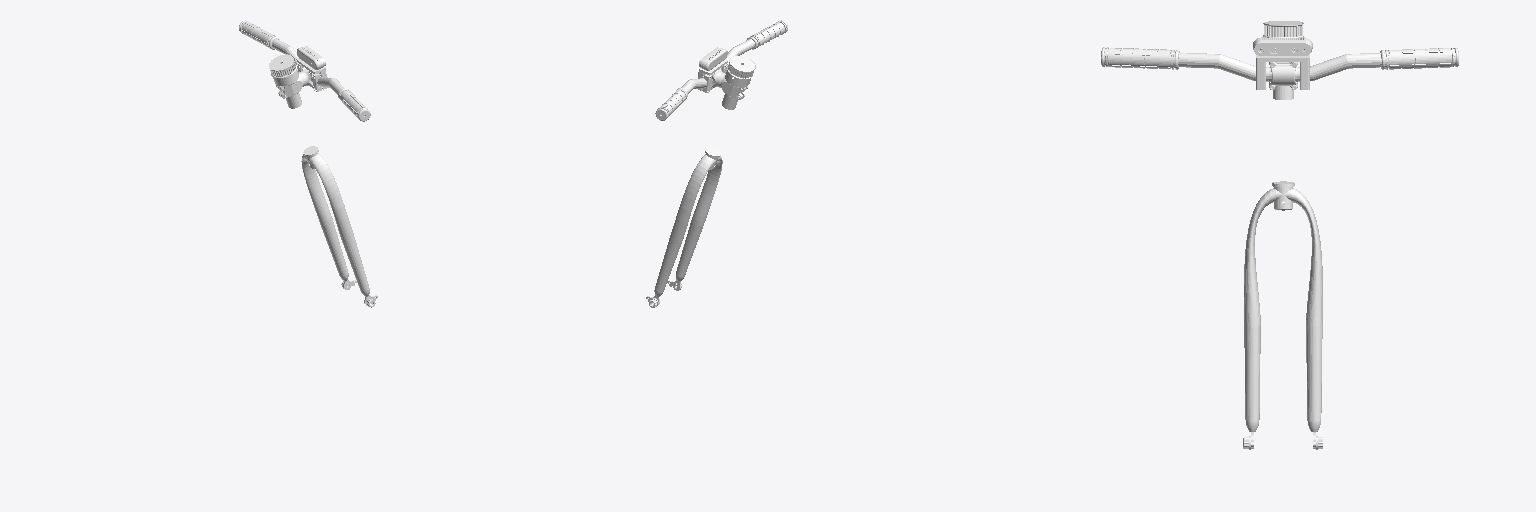
URDF robot description (bicycle_urdf):
<?xml version="1.0" encoding="utf-8"?>
<!-- This URDF was automatically created by SolidWorks to URDF Exporter! Originally created by [author] ([email redacted]) 
     Commit Version: 1.6.0-4-g7f85cfe  Build Version: 1.6.7995.38578
     For more information, please see http://wiki.ros.org/sw_urdf_exporter -->
<robot
  name="bicycle_urdf">
  <link
    name="base_link">
    <visual>
      <origin
        xyz="0 0 0"
        rpy="0 0 0" />
      <geometry>
        <mesh
          filename="package://bicycle_urdf/meshes/base_link.STL" />
      </geometry>
      <material
        name="">
        <color
          rgba="1 1 1 1" />
      </material>
    </visual>
    <collision>
      <origin
        xyz="0 0 0"
        rpy="0 0 0" />
      <geometry>
        <mesh
          filename="package://bicycle_urdf/meshes/base_link.STL" />
      </geometry>
    </collision>
  </link>
  <link
    name="j1">
    <inertial>
      <origin
        xyz="0.015473 -0.00077799 0.5819"
        rpy="0 0 0" />
      <mass
        value="3.6404" />
      <inertia
        ixx="0.053969"
        ixy="3.96E-05"
        ixz="-0.039018"
        iyy="0.14785"
        iyz="-2.2259E-06"
        izz="0.097779" />
    </inertial>
    <visual>
      <origin
        xyz="0 0 0"
        rpy="0 0 0" />
      <geometry>
        <mesh
          filename="package://bicycle_urdf/meshes/j1.dae" />
      </geometry>
      <material
        name="">
        <color
          rgba="1 1 1 1" />
      </material>
    </visual>
    <collision>
      <origin
        xyz="0 0 0"
        rpy="0 0 0" />
      <geometry>
        <mesh
          filename="package://bicycle_urdf/meshes/j1.dae" />
      </geometry>
    </collision>
  </link>
  <joint
    name="j1"
    type="revolute">
    <origin
      xyz="0 0 0"
      rpy="0 0 0" />
    <parent
      link="base_link" />
    <child
      link="j1" />
    <axis
      xyz="1 0 0" />
    <limit
      lower="-1.57"
      upper="1.57"
      effort="0"
      velocity="0" />
  </joint>
  <link
    name="j2">
    <inertial>
      <origin
        xyz="0.012509 -0.00053714 -0.19226"
        rpy="0 0 0" />
      <mass
        value="0.68174" />
      <inertia
        ixx="0.0042946"
        ixy="-3.0303E-08"
        ixz="4.5338E-06"
        iyy="0.0034463"
        iyz="9.0055E-09"
        izz="0.00099221" />
    </inertial>
    <visual>
      <origin
        xyz="0 0 0"
        rpy="0 0 0" />
      <geometry>
        <mesh
          filename="package://bicycle_urdf/meshes/j2.dae" />
      </geometry>
      <material
        name="">
        <color
          rgba="1 1 1 1" />
      </material>
    </visual>
    <collision>
      <origin
        xyz="0 0 0"
        rpy="0 0 0" />
      <geometry>
        <mesh
          filename="package://bicycle_urdf/meshes/j2.dae" />
      </geometry>
    </collision>
  </link>
  <joint
    name="j2"
    type="revolute">
    <origin
      xyz="0.38509 0.000175 0.89724"
      rpy="0 -0.312 0" />
    <parent
      link="j1" />
    <child
      link="j2" />
    <axis
      xyz="0 0 -1" />
    <limit
      lower="-1.57"
      upper="1.57"
      effort="0"
      velocity="0" />
  </joint>
  <link
    name="j6">
    <inertial>
      <origin
        xyz="-0.00054858 0.00024903 -6.0281E-05"
        rpy="0 0 0" />
      <mass
        value="0.044753" />
      <inertia
        ixx="2.7275E-05"
        ixy="2.4489E-07"
        ixz="-1.0126E-09"
        iyy="3.9444E-06"
        iyz="-2.93E-09"
        izz="2.736E-05" />
    </inertial>
    <visual>
      <origin
        xyz="0 0 0"
        rpy="0 0 0" />
      <geometry>
        <mesh
          filename="package://bicycle_urdf/meshes/j6.dae" />
      </geometry>
      <material
        name="">
        <color
          rgba="1 1 1 1" />
      </material>
    </visual>
    <collision>
      <origin
        xyz="0 0 0"
        rpy="0 0 0" />
      <geometry>
        <mesh
          filename="package://bicycle_urdf/meshes/j6.dae" />
      </geometry>
    </collision>
  </link>
  <joint
    name="j6"
    type="fixed">
    <origin
      xyz="0.068861 -0.00088133 0.018549"
      rpy="0 0.17453 0" />
    <parent
      link="j2" />
    <child
      link="j6" />
    <axis
      xyz="0 0 0" />
  </joint>
  <link
    name="j3">
    <inertial>
      <origin
        xyz="7.5754E-06 -4.6249E-05 -0.0003164"
        rpy="0 0 0" />
      <mass
        value="1.4336" />
      <inertia
        ixx="0.07015"
        ixy="-2.4297E-08"
        ixz="-4.9239E-05"
        iyy="0.14017"
        iyz="2.6741E-07"
        izz="0.070164" />
    </inertial>
    <visual>
      <origin
        xyz="0 0 0"
        rpy="0 0 0" />
      <geometry>
        <mesh
          filename="package://bicycle_urdf/meshes/j3.dae" />
      </geometry>
      <material
        name="">
        <color
          rgba="1 1 1 1" />
      </material>
    </visual>
    <collision>
      <origin
        xyz="0 0 0"
        rpy="0 0 0" />
      <geometry>
        <mesh
          filename="package://bicycle_urdf/meshes/j3.dae" />
      </geometry>
    </collision>
  </link>
  <joint
    name="j3"
    type="revolute">
    <origin
      xyz="0.00011884 -0.001 -0.5832"
      rpy="0 0.312 0" />
    <parent
      link="j2" />
    <child
      link="j3" />
    <axis
      xyz="0 1 0" />
    <limit
      lower="-3.14"
      upper="3.14"
      effort="0"
      velocity="0" />
  </joint>
  <link
    name="j4">
    <inertial>
      <origin
        xyz="-3.8345E-05 -0.00021809 -0.00030458"
        rpy="0 0 0" />
      <mass
        value="1.4778" />
      <inertia
        ixx="0.070308"
        ixy="-5.1529E-08"
        ixz="4.9621E-05"
        iyy="0.14042"
        iyz="-2.6307E-07"
        izz="0.070301" />
    </inertial>
    <visual>
      <origin
        xyz="0 0 0"
        rpy="0 0 0" />
      <geometry>
        <mesh
          filename="package://bicycle_urdf/meshes/j4.dae" />
      </geometry>
      <material
        name="">
        <color
          rgba="1 1 1 1" />
      </material>
    </visual>
    <collision>
      <origin
        xyz="0 0 0"
        rpy="0 0 0" />
      <geometry>
        <mesh
          filename="package://bicycle_urdf/meshes/j4.dae" />
      </geometry>
    </collision>
  </link>
  <joint
    name="j4"
    type="revolute">
    <origin
      xyz="-0.42413 0 0.3425"
      rpy="0 0 0" />
    <parent
      link="j1" />
    <child
      link="j4" />
    <axis
      xyz="0 -1 0" />
    <limit
      lower="-3.14"
      upper="3.14"
      effort="0"
      velocity="0" />
  </joint>
  <link
    name="j5">
    <inertial>
      <origin
        xyz="0.0014631 0.00022537 8.6819E-05"
        rpy="0 0 0" />
      <mass
        value="0.037231" />
      <inertia
        ixx="1.6788E-05"
        ixy="-4.3096E-08"
        ixz="-4.7953E-07"
        iyy="1.4823E-05"
        iyz="5.8388E-09"
        izz="3.0114E-05" />
    </inertial>
    <visual>
      <origin
        xyz="0 0 0"
        rpy="0 0 0" />
      <geometry>
        <mesh
          filename="package://bicycle_urdf/meshes/j5.dae" />
      </geometry>
      <material
        name="">
        <color
          rgba="1 1 1 1" />
      </material>
    </visual>
    <collision>
      <origin
        xyz="0 0 0"
        rpy="0 0 0" />
      <geometry>
        <mesh
          filename="package://bicycle_urdf/meshes/j5.dae" />
      </geometry>
    </collision>
  </link>
  <joint
    name="j5"
    type="fixed">
    <origin
      xyz="0.48435 0.00017515 0.84618"
      rpy="0 0 0" />
    <parent
      link="j1" />
    <child
      link="j5" />
    <axis
      xyz="0 0 0" />
  </joint>
</robot>

--- What the picture shows (computed from the rendered views, not written in the file) ---
The picture shows the robot from 3 angles, left to right: view 1: azimuth 30°, elevation 25°; view 2: azimuth 150°, elevation 25°; view 3: azimuth 270°, elevation 25°; orthographic projection.
Model bicycle_urdf with 7 links and 6 joints (4 revolute, 2 fixed), rooted at base_link, posed all joints at 0.
Visible links, largest first — view 1: j2; view 2: j2; view 3: j2, j6.
Boxes of the visible links, x1=… form: j2: x1=239, y1=20, x2=377, y2=307; j2: x1=646, y1=20, x2=787, y2=307; j2: x1=1101, y1=20, x2=1458, y2=449; j6: x1=1253, y1=37, x2=1312, y2=55.
Size in the robot's own frame: 0.5861 by 0.5326 by 0.9507 metres.
3 mesh visuals loaded from 7 distinct referenced files (1 binary STL, 2 Collada DAE); not drawn: 4 (reference not matched to a file when rendering).